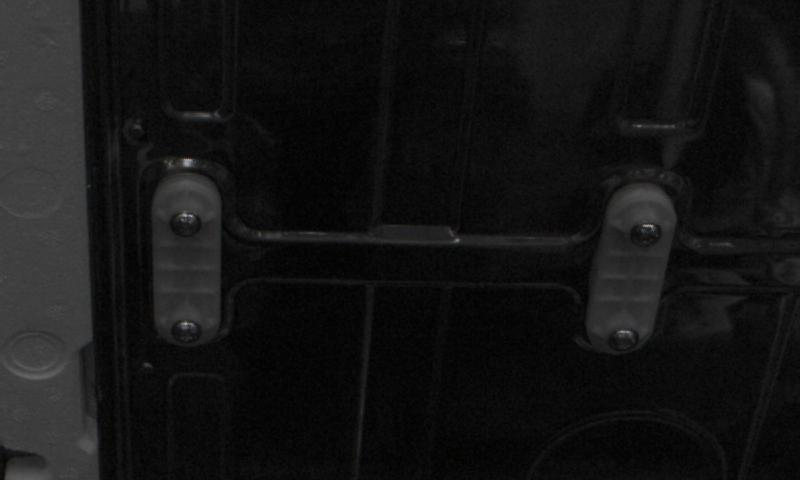vida-ok: (624, 215, 668, 255), (167, 204, 206, 244), (603, 321, 642, 360), (167, 315, 205, 350)
